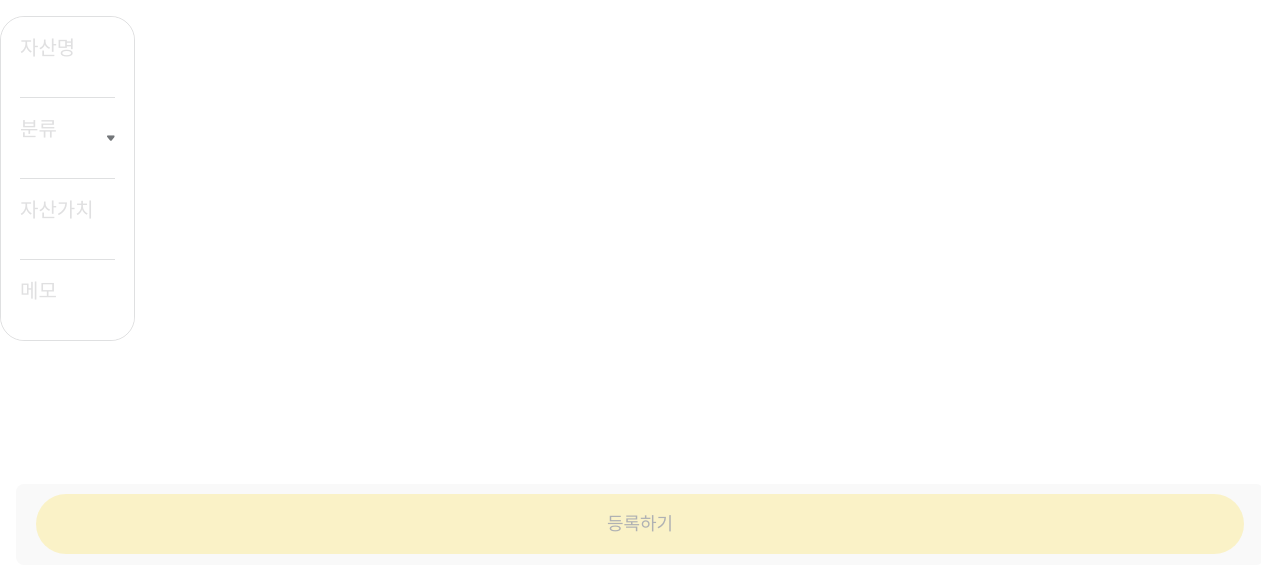
Test case: RegisterAssetForm › 자산가치 입력시 Placeholder는 금액을 입력하세요 입니다.
Click the button with test id "button-assetValue".
click(67, 218)  # box [1,178,134,258]
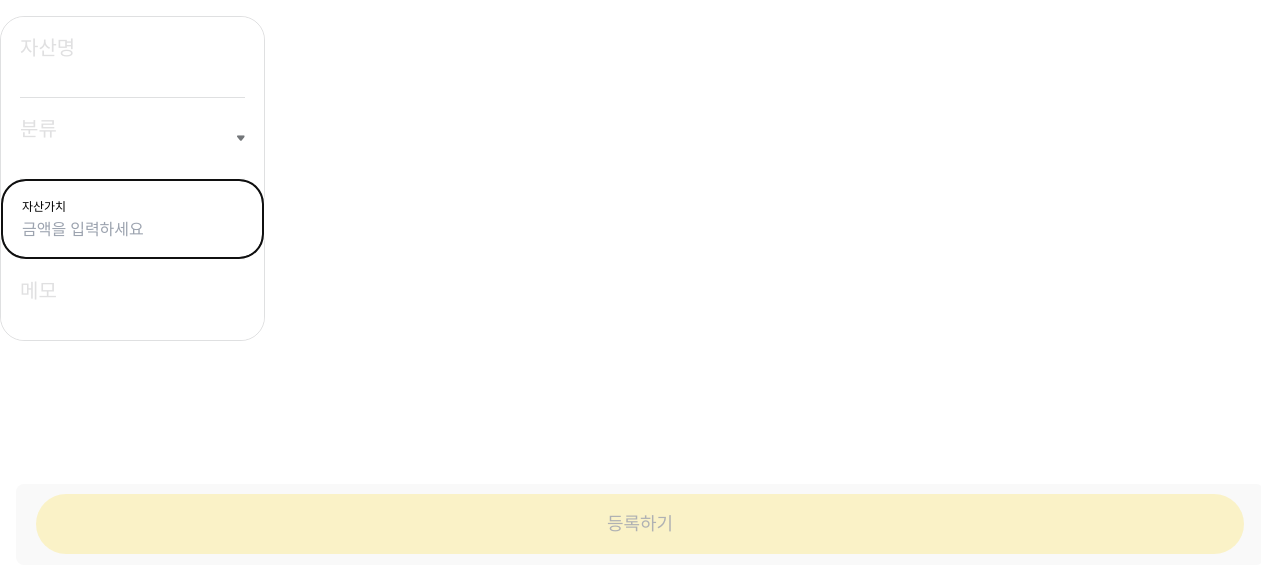
Expected: the field with placeholder "금액을 입력하세요" is shown, [22,218,222,242]
